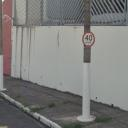speed_limit_40: (81, 30, 95, 48)
